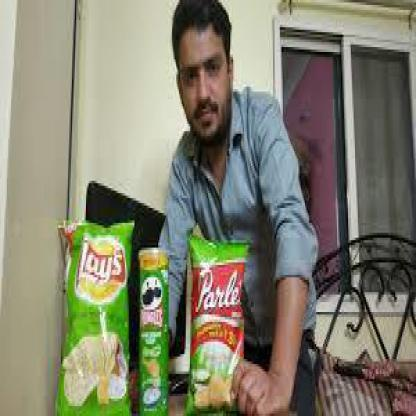cream_and_onion: (54, 216, 131, 411)
